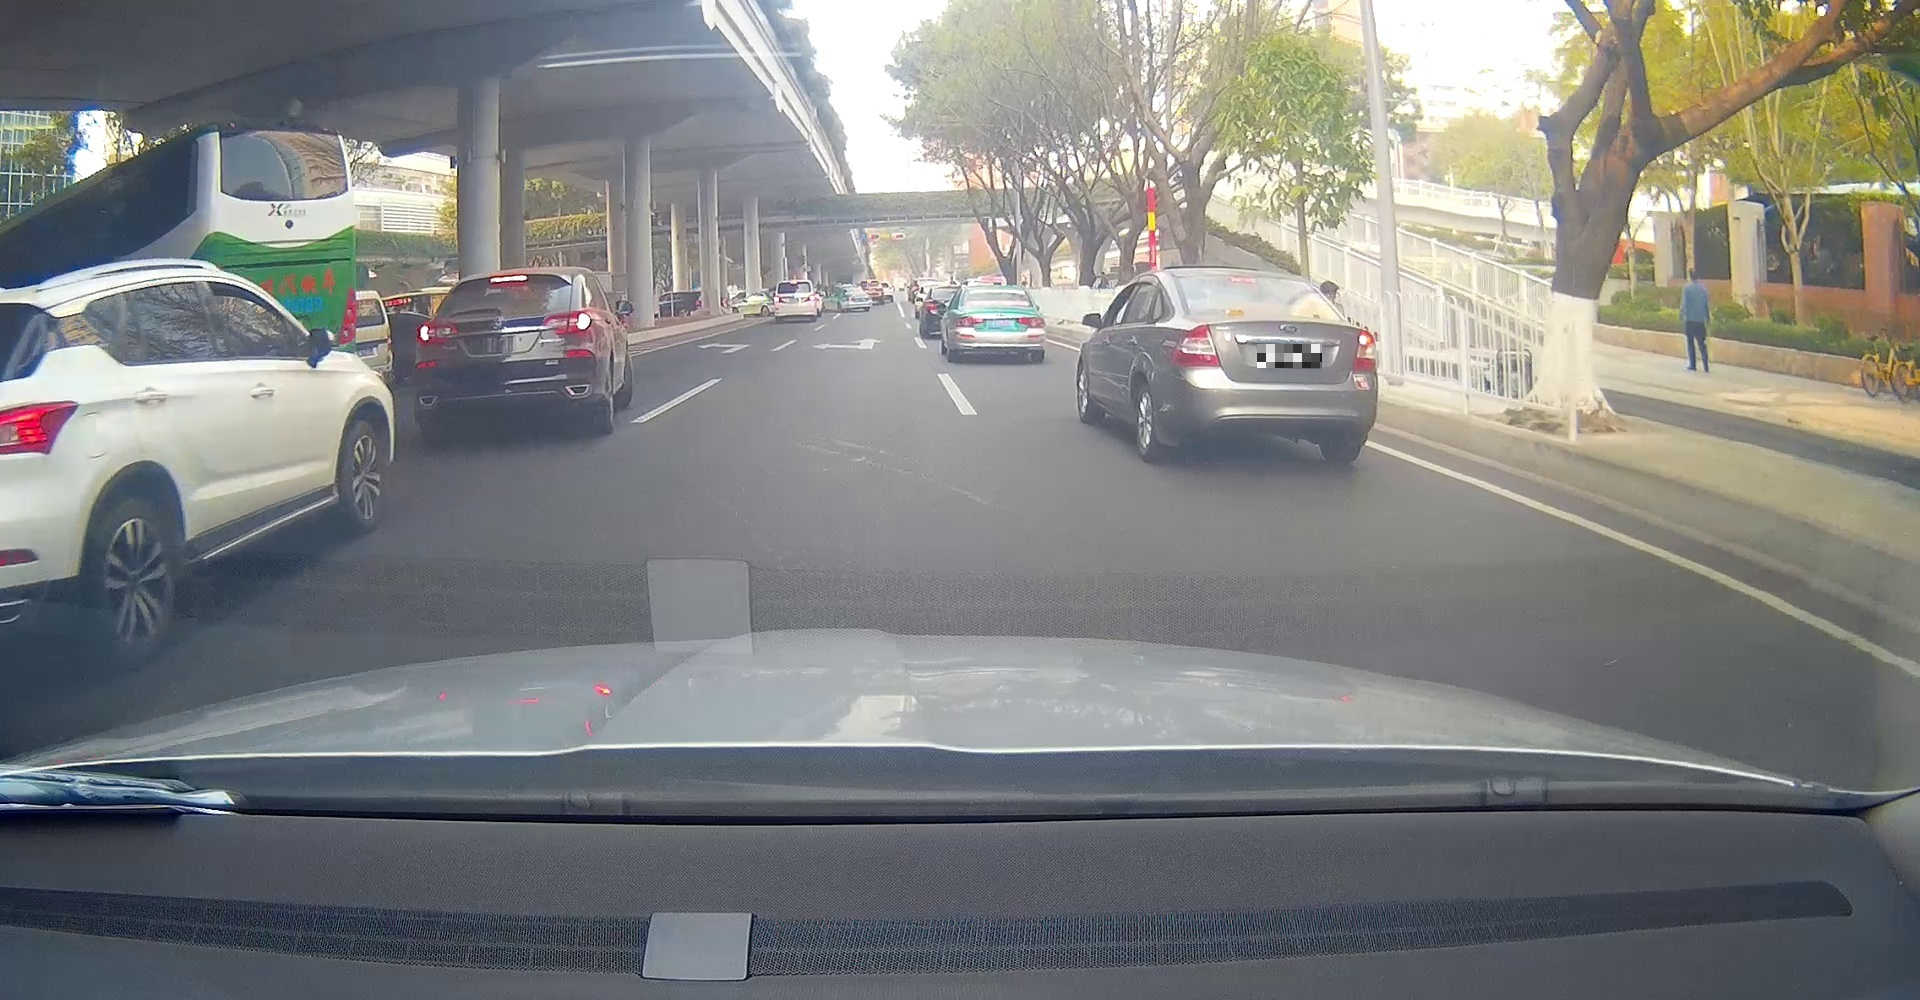L_light: (1170, 324, 1220, 369), (417, 320, 456, 345), (954, 315, 984, 327), (775, 296, 786, 305)
R_light: (542, 310, 590, 334), (1017, 316, 1046, 329), (803, 294, 815, 302)
T_light: (489, 275, 527, 283), (1229, 275, 1256, 283), (987, 291, 1003, 294), (790, 280, 797, 284)
day-brake: (1164, 266, 1378, 463), (415, 266, 596, 433), (775, 280, 815, 322)
day-no: (952, 286, 1048, 363), (1351, 329, 1377, 374)
plate_1: (1257, 344, 1322, 368)
